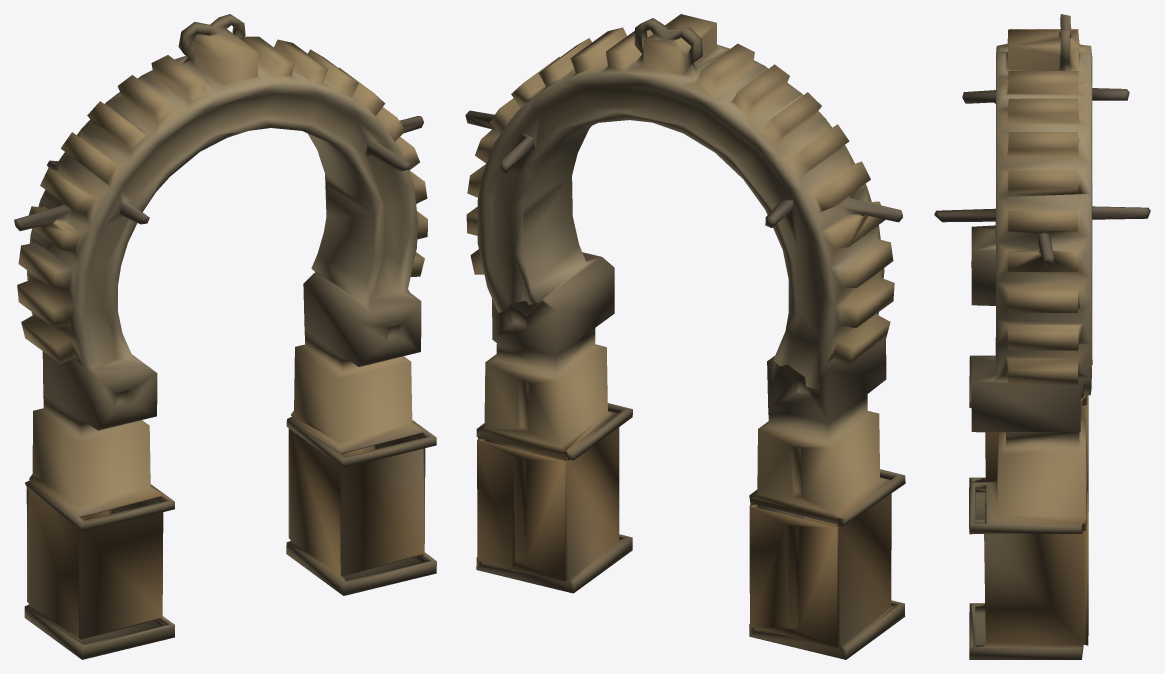
File: ruina_portal_lejos.glb
The picture shows the model from 3 angles, left to right: view 1: azimuth 30°, elevation 25°; view 2: azimuth 150°, elevation 25°; view 3: azimuth 270°, elevation 25°; orthographic projection. The views are drawn at different scales.
Parts seen in each view (by area): view 1: ruina_portal_lejos; view 2: ruina_portal_lejos; view 3: ruina_portal_lejos.
Boxes of the visible parts, x1=… form: ruina_portal_lejos: x1=14, y1=14, x2=436, y2=659; ruina_portal_lejos: x1=465, y1=14, x2=905, y2=659; ruina_portal_lejos: x1=934, y1=14, x2=1150, y2=659.
Bounding box in the file's own units: 7.36 × 9.57 × 3.4.
